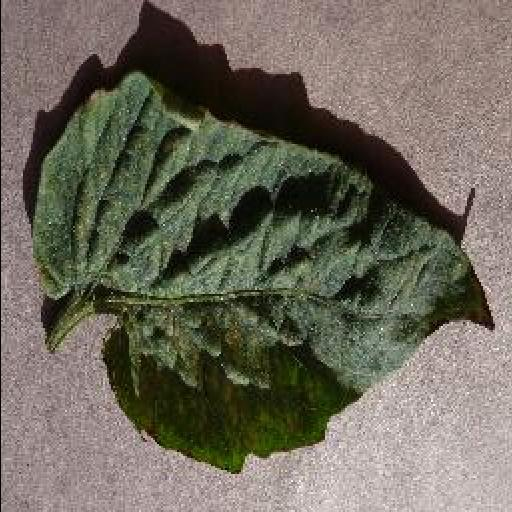disease_tomato: (32, 72, 494, 472)
